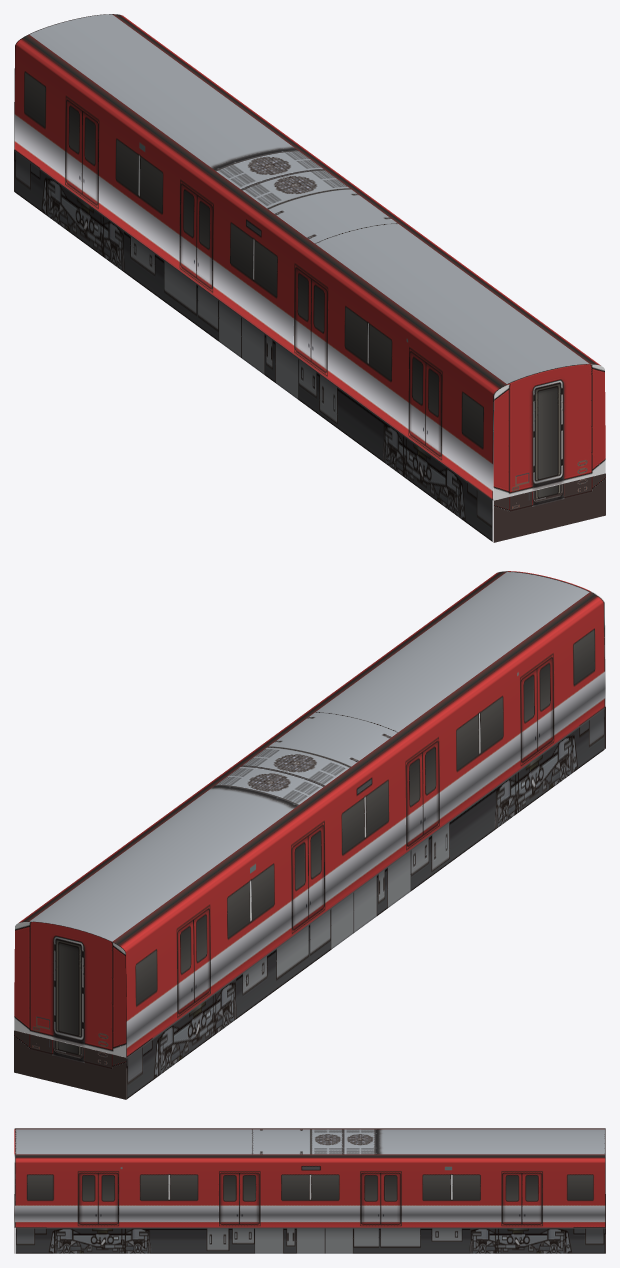
The model's file is car2.glb.
3 views of the same model, one above another, from view 1: azimuth 30°, elevation 25°; view 2: azimuth 150°, elevation 25°; view 3: azimuth 270°, elevation 25° (orthographic). The views are drawn at different scales.
Visible parts, largest first — view 1: kintetsu-6a-car2; view 2: kintetsu-6a-car2; view 3: kintetsu-6a-car2.
Boxes of the visible parts, x1,y1,x2,y2 form: kintetsu-6a-car2: (14,14,605,542); kintetsu-6a-car2: (14,571,605,1099); kintetsu-6a-car2: (14,1128,605,1253).
Bounding box in the file's own units: 2.8 × 3.77 × 20.75.
Materials: 8 (7 with a texture image).
